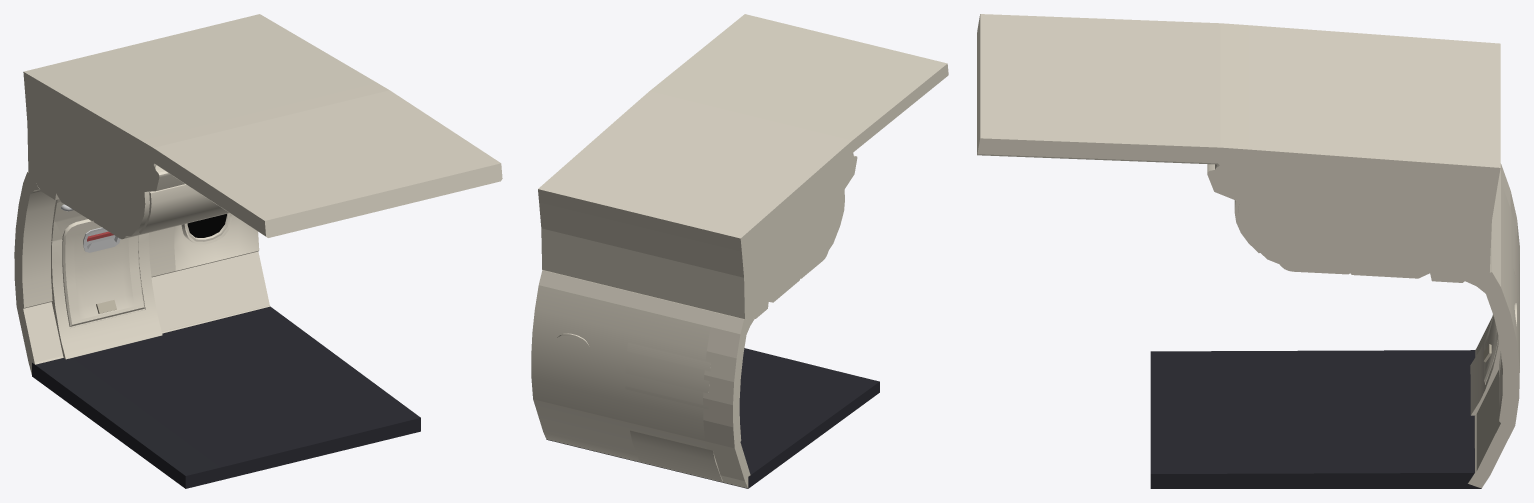
File: air_escapesection.fbx
3 renders of one model, left to right at view 1: azimuth 30°, elevation 25°; view 2: azimuth 150°, elevation 25°; view 3: azimuth 270°, elevation 25°, orthographic. The views are drawn at different scales.
Visible parts, largest first — view 1: overhead, floor, airplanesection_escape, pCube46, escape_door, pCube42, window1, pCube47; view 2: overhead, airplanesection_escape, floor, escape_door; view 3: overhead, floor, airplanesection_escape, escape_door.
Boxes of the visible parts, x1,y1,x2,y2 form: overhead: (23,14,502,239); floor: (32,306,420,488); airplanesection_escape: (14,171,270,374); pCube46: (59,219,145,328); escape_door: (51,199,162,359); pCube42: (139,184,228,233); window1: (181,213,231,244); pCube47: (83,227,120,252); overhead: (538,14,948,319); airplanesection_escape: (531,270,754,488); floor: (546,348,879,488); escape_door: (625,342,722,481); overhead: (977,14,1500,282); floor: (1150,350,1481,488); airplanesection_escape: (1465,163,1519,488); escape_door: (1470,218,1519,415).
Size of the model in its own units: 4.62 by 6.08 by 8.51.
